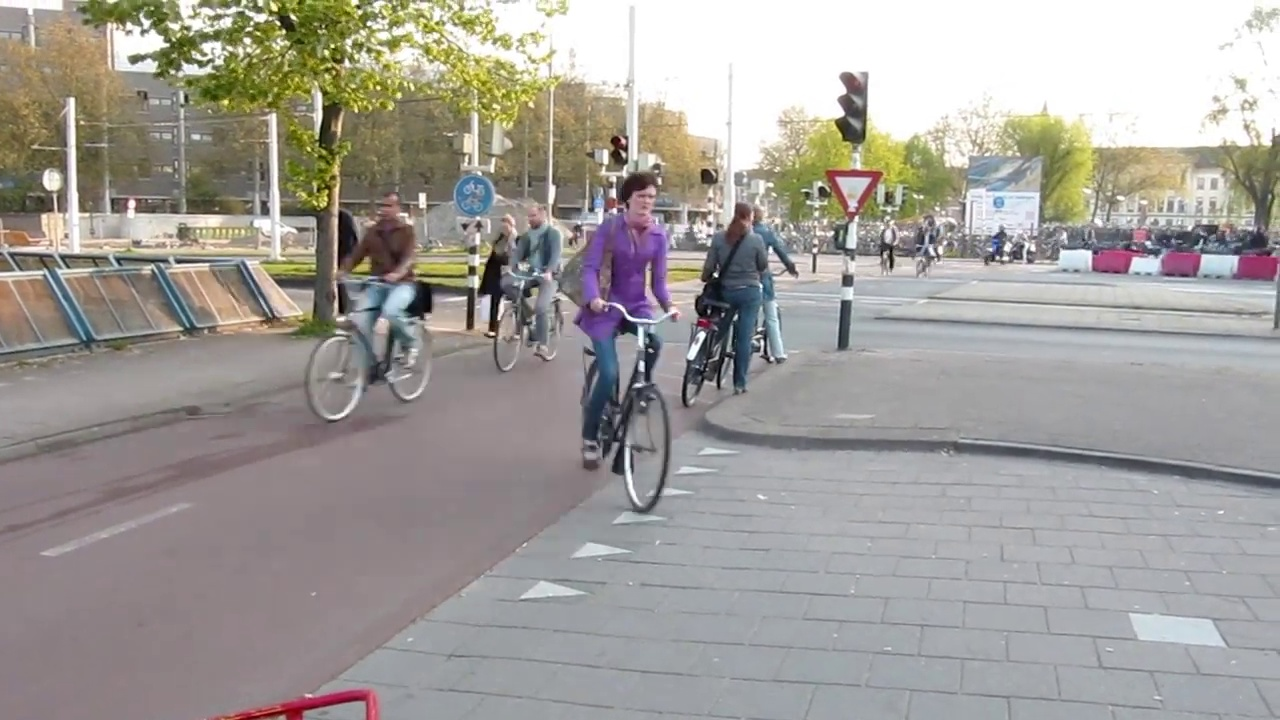cyclist_back: (684, 199, 749, 401)
cyclist_front: (538, 157, 659, 520), (313, 191, 436, 419), (498, 201, 564, 366), (881, 217, 897, 275)
